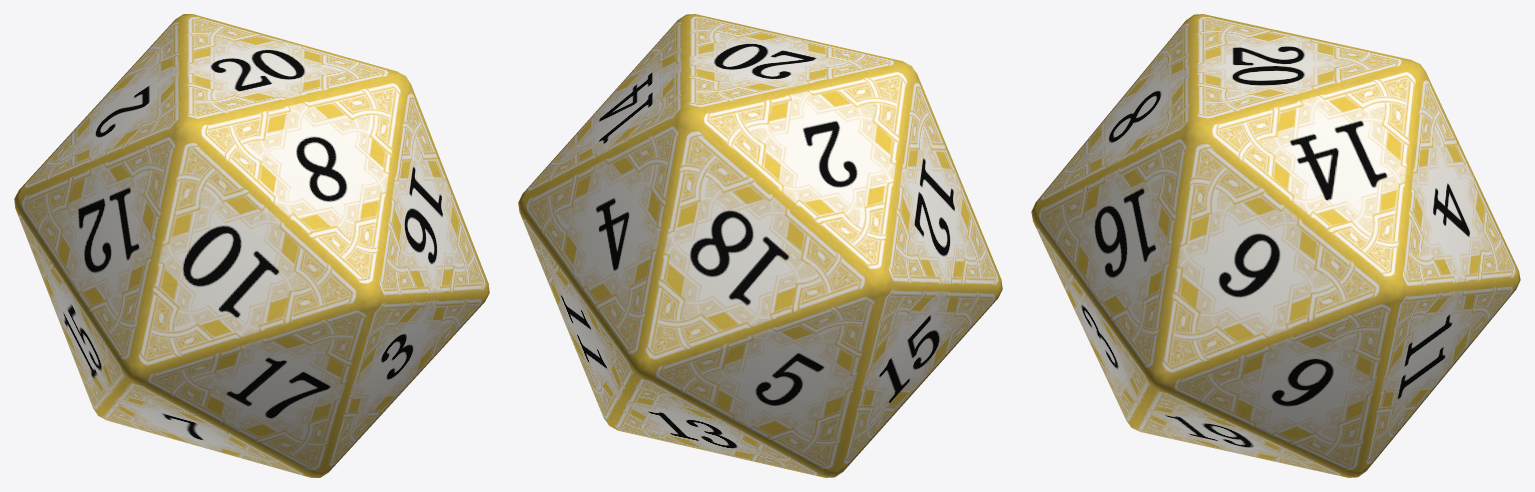
Rendered from dice1_1024.glb.
3 views of the same model, side by side, from view 1: azimuth 30°, elevation 25°; view 2: azimuth 150°, elevation 25°; view 3: azimuth 270°, elevation 25° (orthographic).
Visible parts, largest first — view 1: GeoSphere003BBig_Export; view 2: GeoSphere003BBig_Export; view 3: GeoSphere003BBig_Export.
Part boxes in pixels (bbox=[...]): GeoSphere003BBig_Export: bbox=[14, 14, 489, 477]; GeoSphere003BBig_Export: bbox=[518, 14, 1002, 477]; GeoSphere003BBig_Export: bbox=[1031, 14, 1520, 477].
Size of the model in its own units: 0.5647 by 0.5422 by 0.6465.
1 material, 1 textured.
